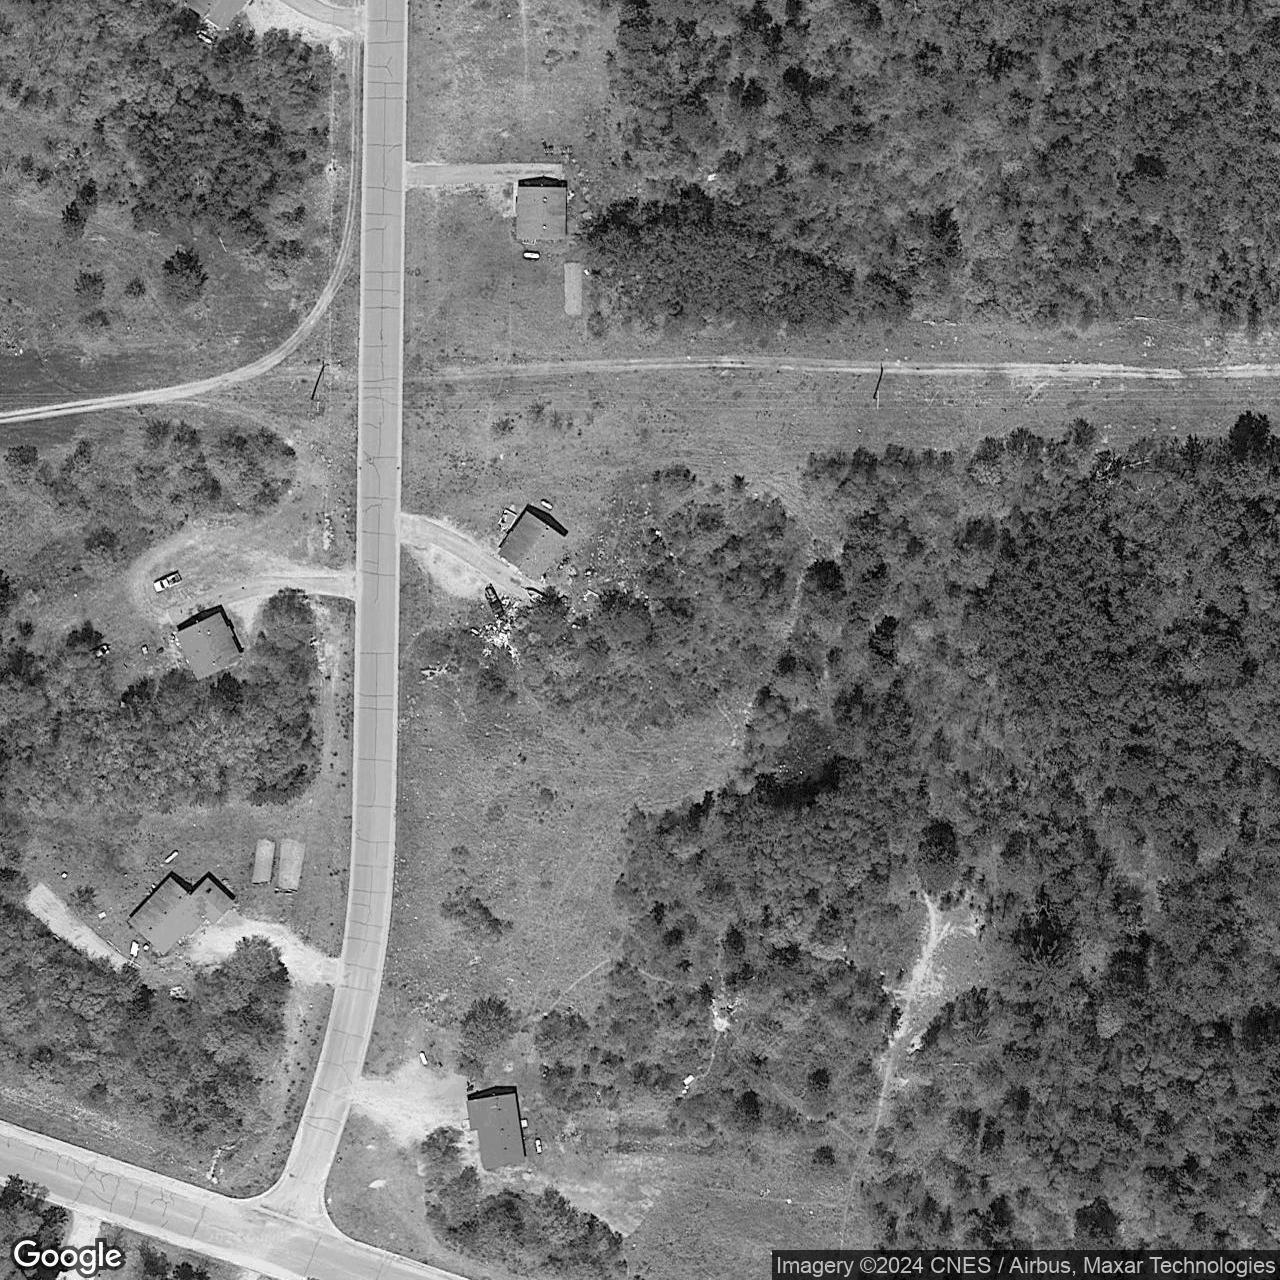House: (125, 876, 239, 955), (499, 510, 568, 584), (173, 612, 245, 681), (467, 1090, 526, 1170), (513, 185, 567, 241), (182, 0, 251, 30)
Propane: (162, 847, 181, 866), (196, 30, 215, 47), (520, 250, 543, 261), (418, 1048, 431, 1067), (535, 1136, 545, 1156), (539, 498, 554, 510)
